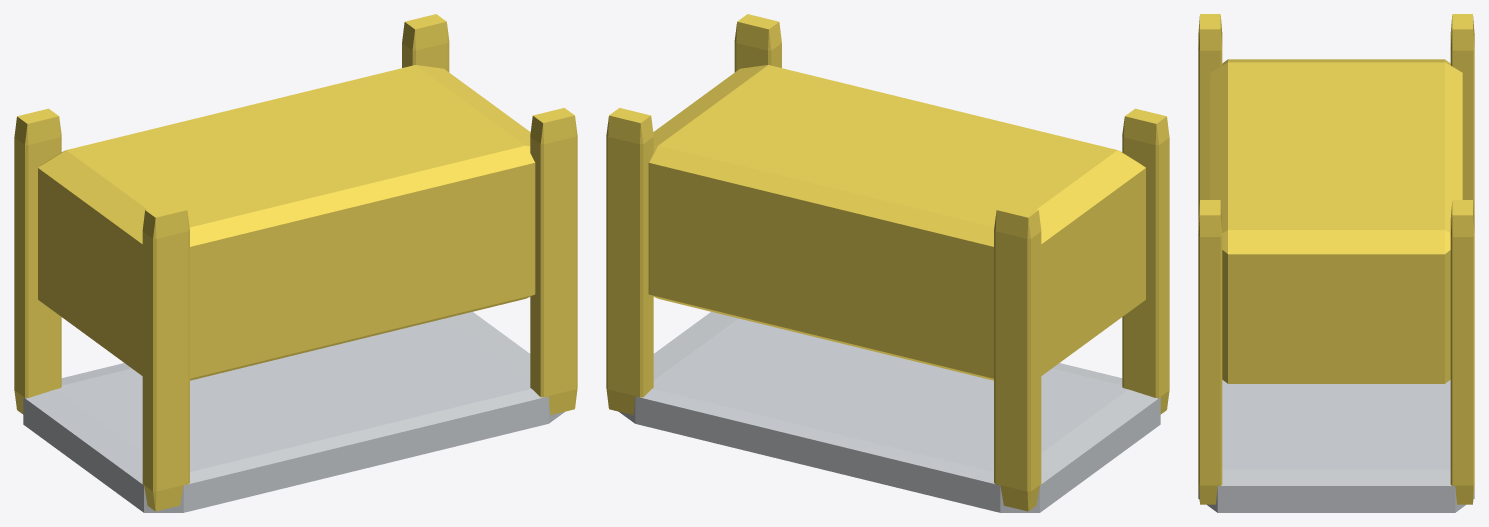
The model's file is b07_twin_tank_grout_injection_skid.glb.
3 views of the same model, side by side, from view 1: azimuth 30°, elevation 25°; view 2: azimuth 150°, elevation 25°; view 3: azimuth 270°, elevation 25° (orthographic).
Parts seen in each view (by area): view 1: b07_twin_tank_grout_injection_skid; view 2: b07_twin_tank_grout_injection_skid; view 3: b07_twin_tank_grout_injection_skid.
Part boxes in pixels (bbox=[...]): b07_twin_tank_grout_injection_skid: bbox=[14, 14, 577, 512]; b07_twin_tank_grout_injection_skid: bbox=[606, 14, 1169, 512]; b07_twin_tank_grout_injection_skid: bbox=[1198, 14, 1474, 512].
Size of the model in its own units: 2.27 by 1.55 by 1.3.
